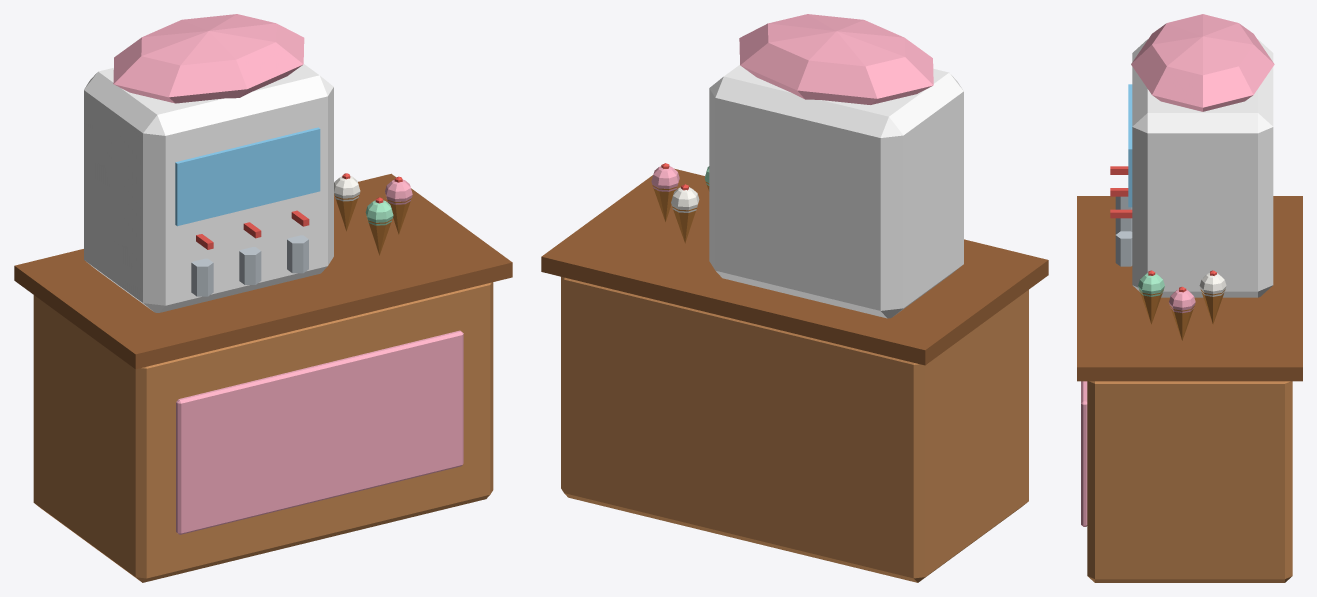
Rendered from station_ice_cream_machine.glb.
The picture shows the model from 3 angles, left to right: view 1: azimuth 30°, elevation 25°; view 2: azimuth 150°, elevation 25°; view 3: azimuth 270°, elevation 25°; orthographic projection. The views are drawn at different scales.
Parts seen in each view (by area): view 1: station_ice_cream_machine; view 2: station_ice_cream_machine; view 3: station_ice_cream_machine.
Part boxes in pixels (bbox=[...]): station_ice_cream_machine: bbox=[14, 14, 512, 582]; station_ice_cream_machine: bbox=[541, 14, 1048, 582]; station_ice_cream_machine: bbox=[1077, 14, 1302, 582].
Bounding box in the file's own units: 1.58 × 1.92 × 0.88.
